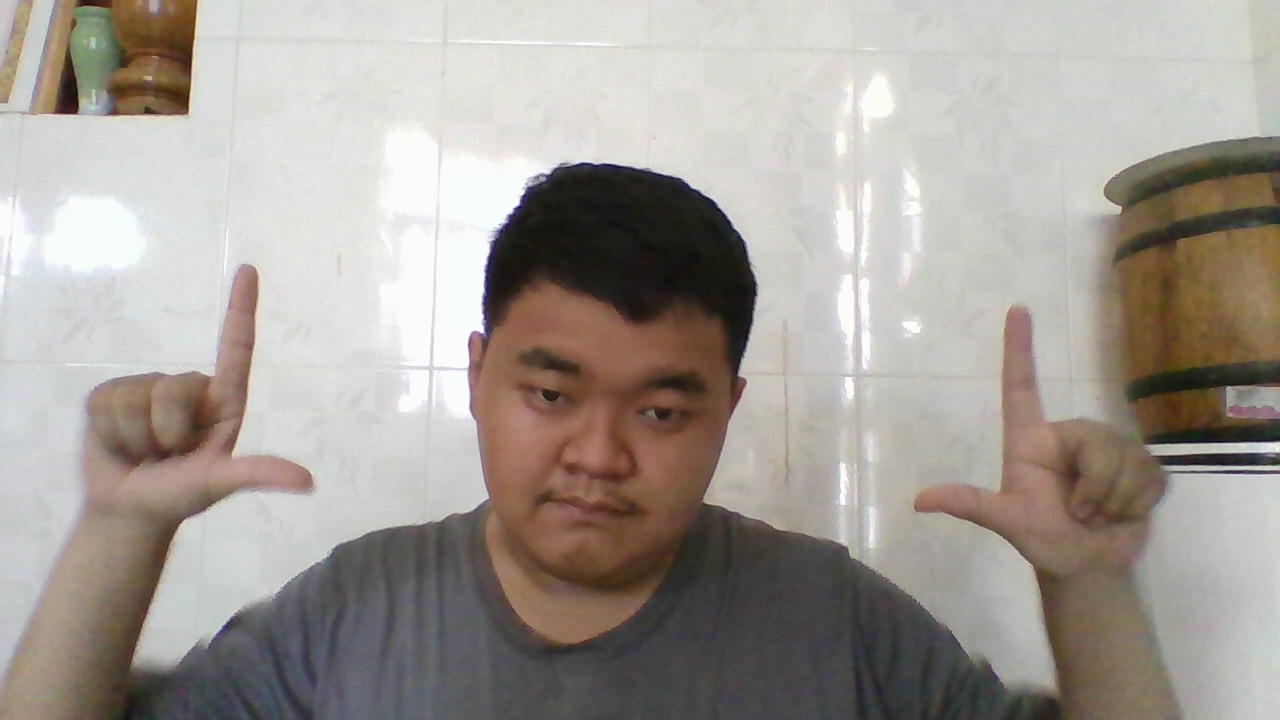L: (913, 298, 1172, 584), (87, 259, 316, 525)
